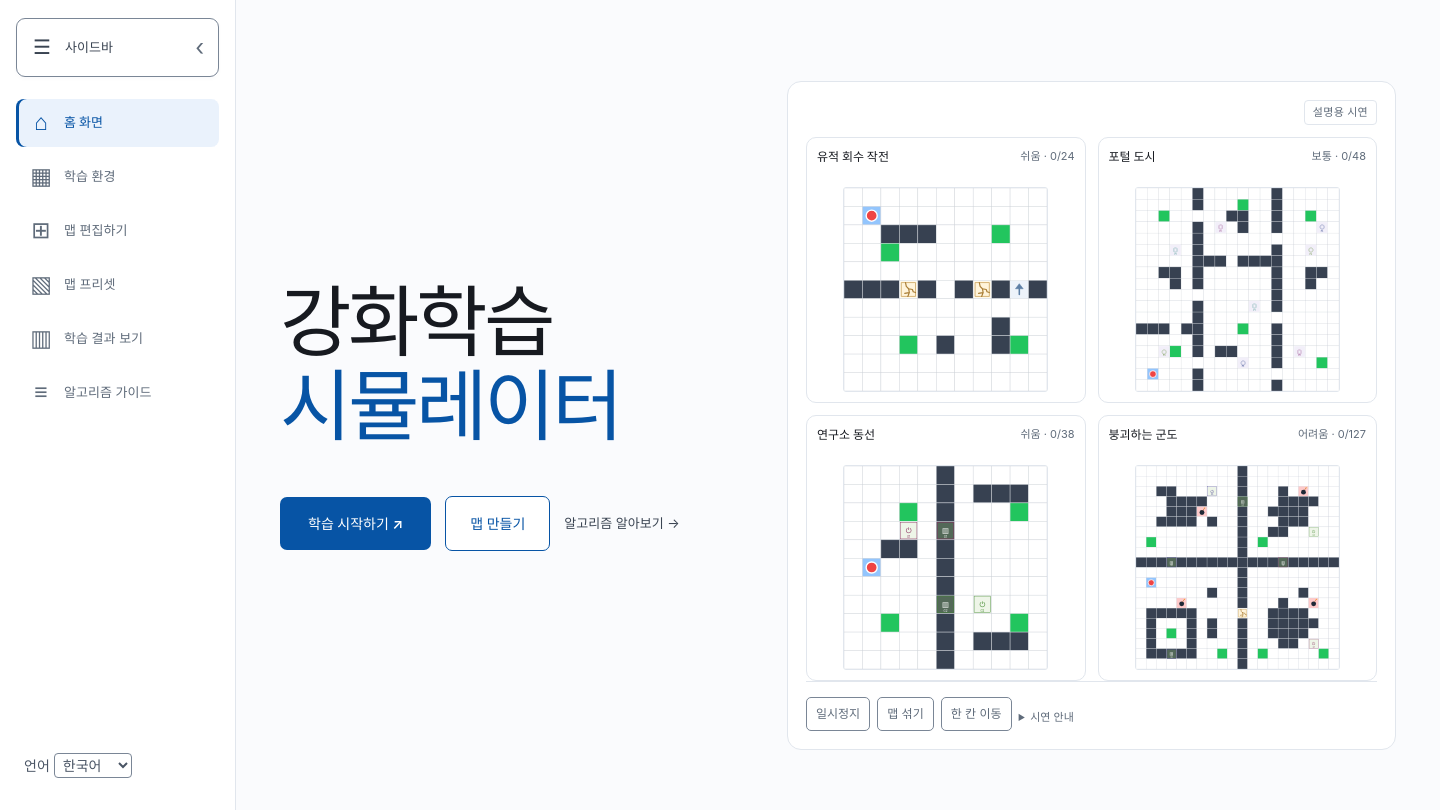
Scenario: Home hero is reduced to the title, two actions and the live demos › has no removed copy in en
The width and height of the screenshot is (1440, 810).
Select "English" in the dropdown with test id "language-selector" at (93, 766), box [54,753,132,778]
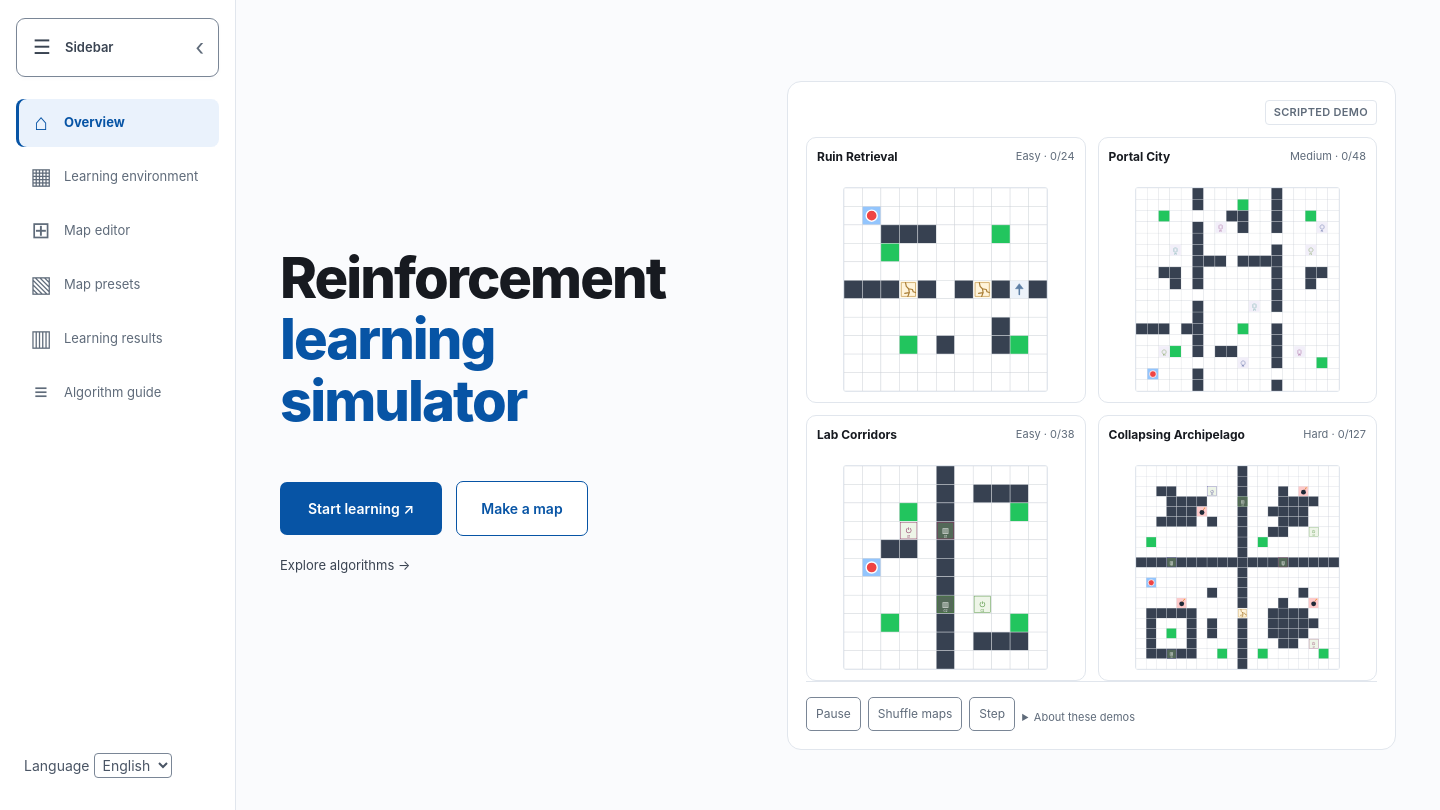
Result: the element with class "demo-heading" reads "SCRIPTED DEMO" at [1274,105,1368,119]
